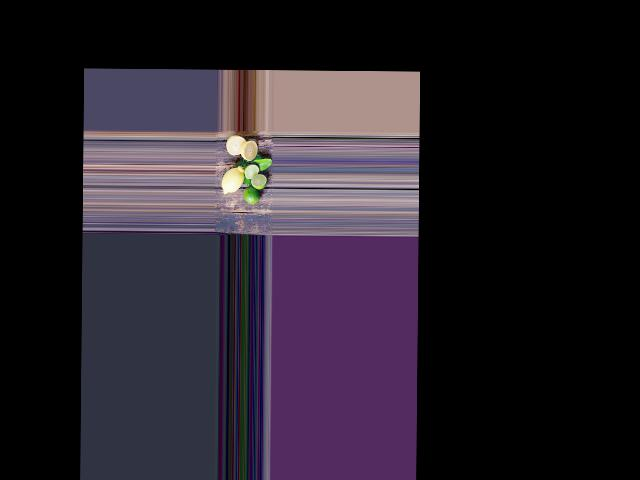lemon: (220, 164, 246, 195)
